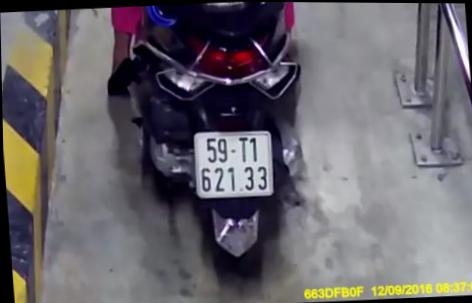LP: (193, 130, 273, 198)
